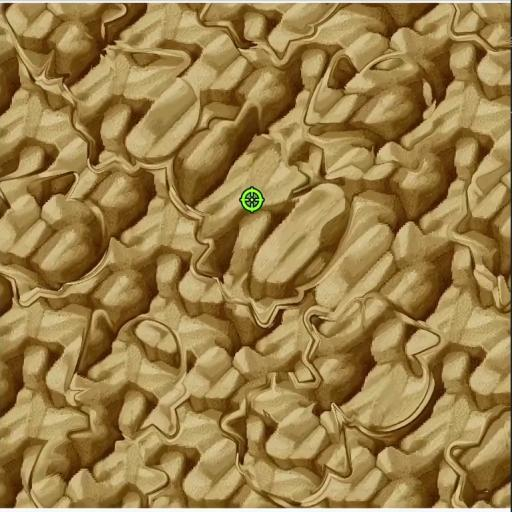Target: (177, 171, 364, 330), (300, 282, 456, 445), (160, 91, 310, 241), (53, 302, 205, 445), (58, 43, 214, 179), (215, 368, 357, 504), (288, 44, 456, 158), (0, 166, 116, 310), (190, 0, 350, 69), (440, 402, 512, 508)
